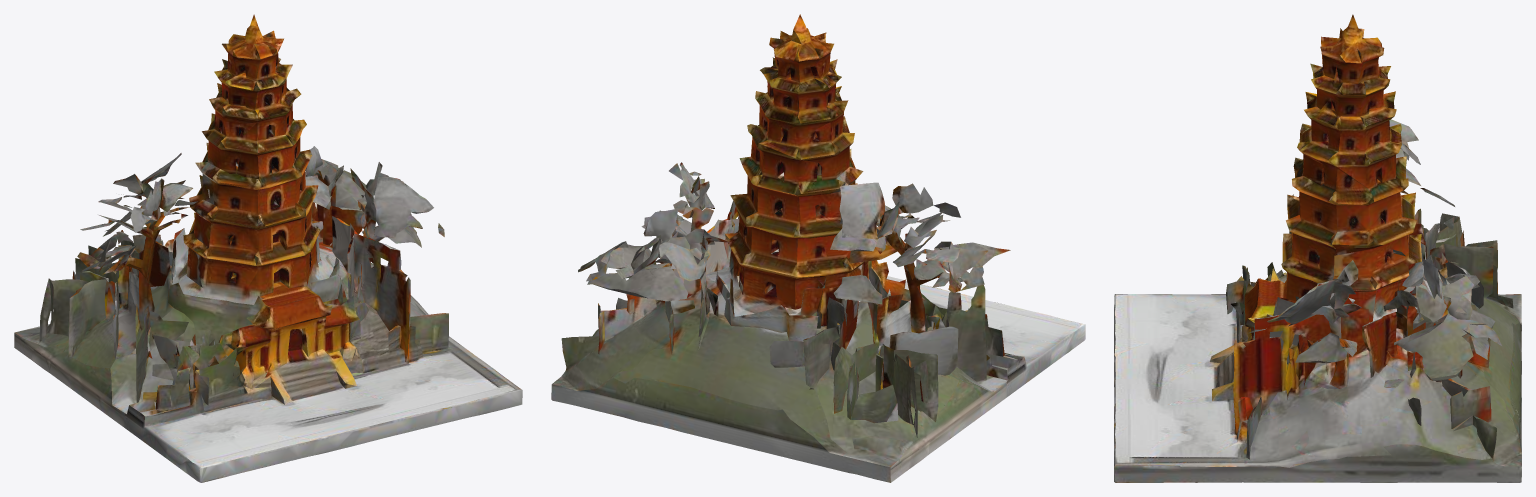
File: thien-mu-pagoda.glb
3 views of the same model, side by side, from view 1: azimuth 30°, elevation 25°; view 2: azimuth 150°, elevation 25°; view 3: azimuth 270°, elevation 25° (orthographic). The views are drawn at different scales.
Parts seen in each view (by area): view 1: logan-textured.obj; view 2: logan-textured.obj; view 3: logan-textured.obj.
Boxes of the visible parts, box(x1,y1,x2,y2) form: logan-textured.obj: box(14, 14, 522, 482); logan-textured.obj: box(551, 14, 1085, 482); logan-textured.obj: box(1114, 14, 1521, 482).
Bounding box in the file's own units: 1 × 0.9776 × 0.9422.
1 material, 1 textured.
